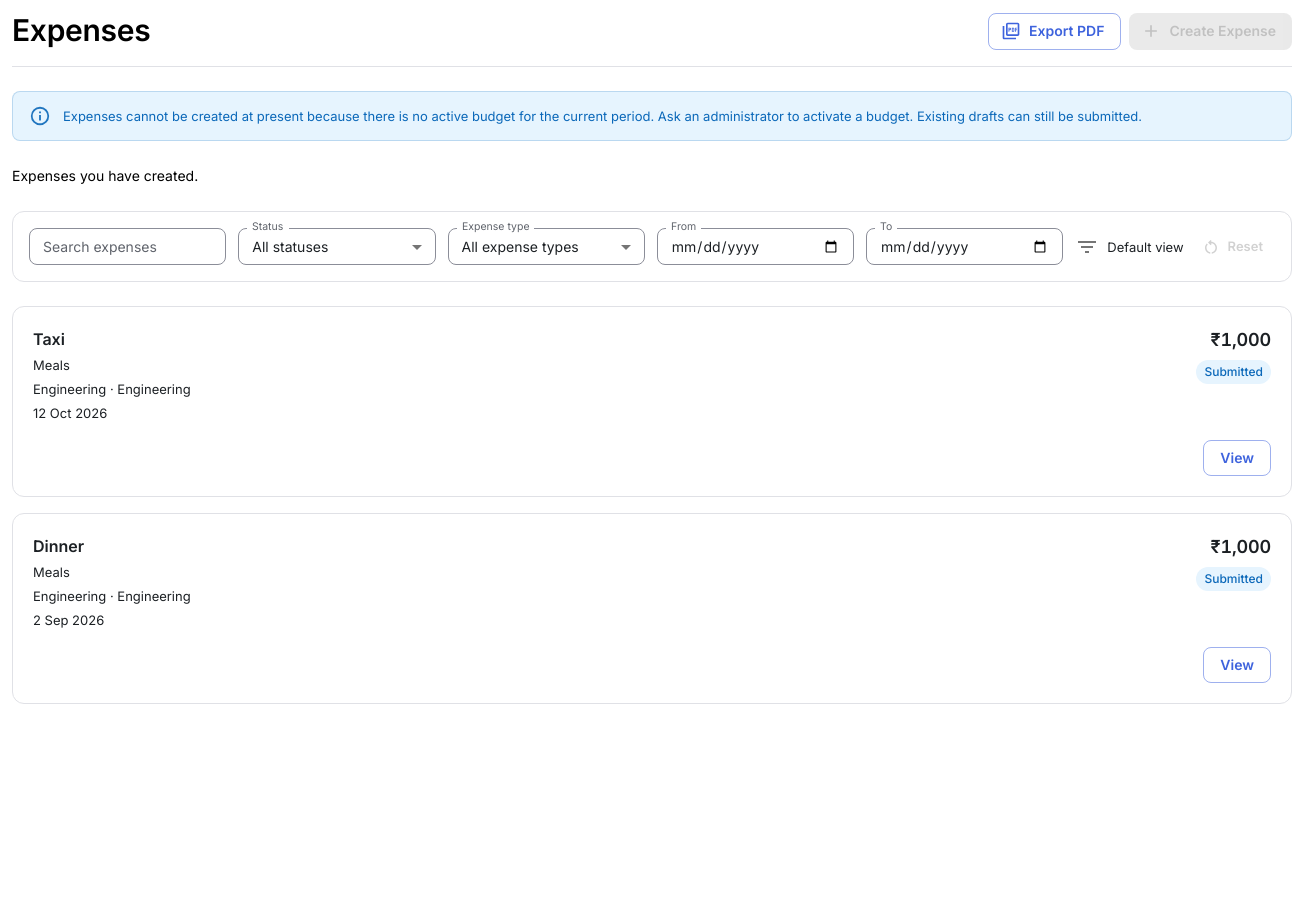
Test case: ExpensesPage date filter › keeps the list and filters on screen while an inverted range is corrected
Check: the heading "Taxi" is shown, box [33,329,65,349]
Type "2026-10-10" into the date field labelled "From" at (755, 247), box [657,228,854,265]
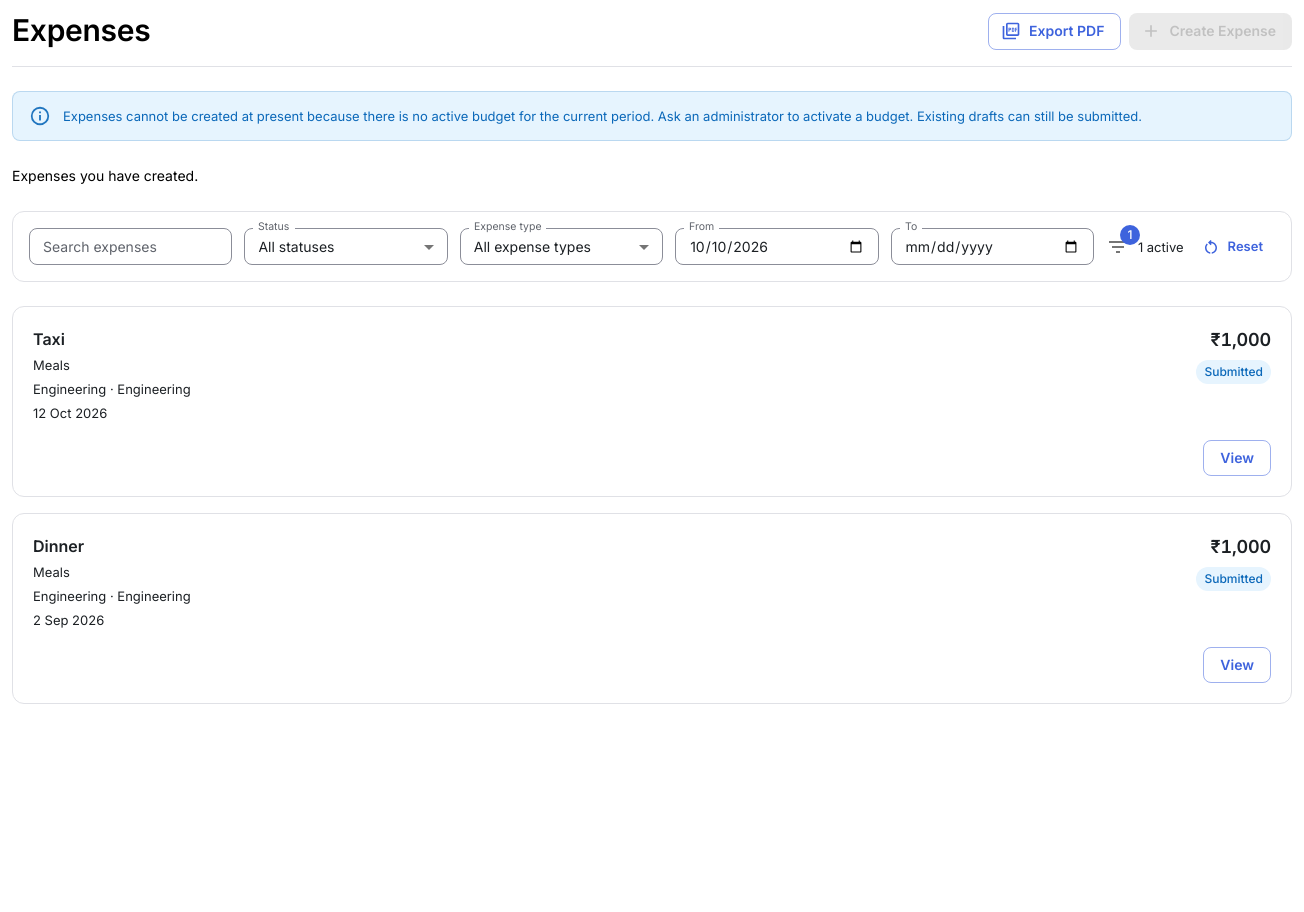
Type "2026-10-01" into the date field labelled "To" at (992, 247), box [890,228,1094,265]
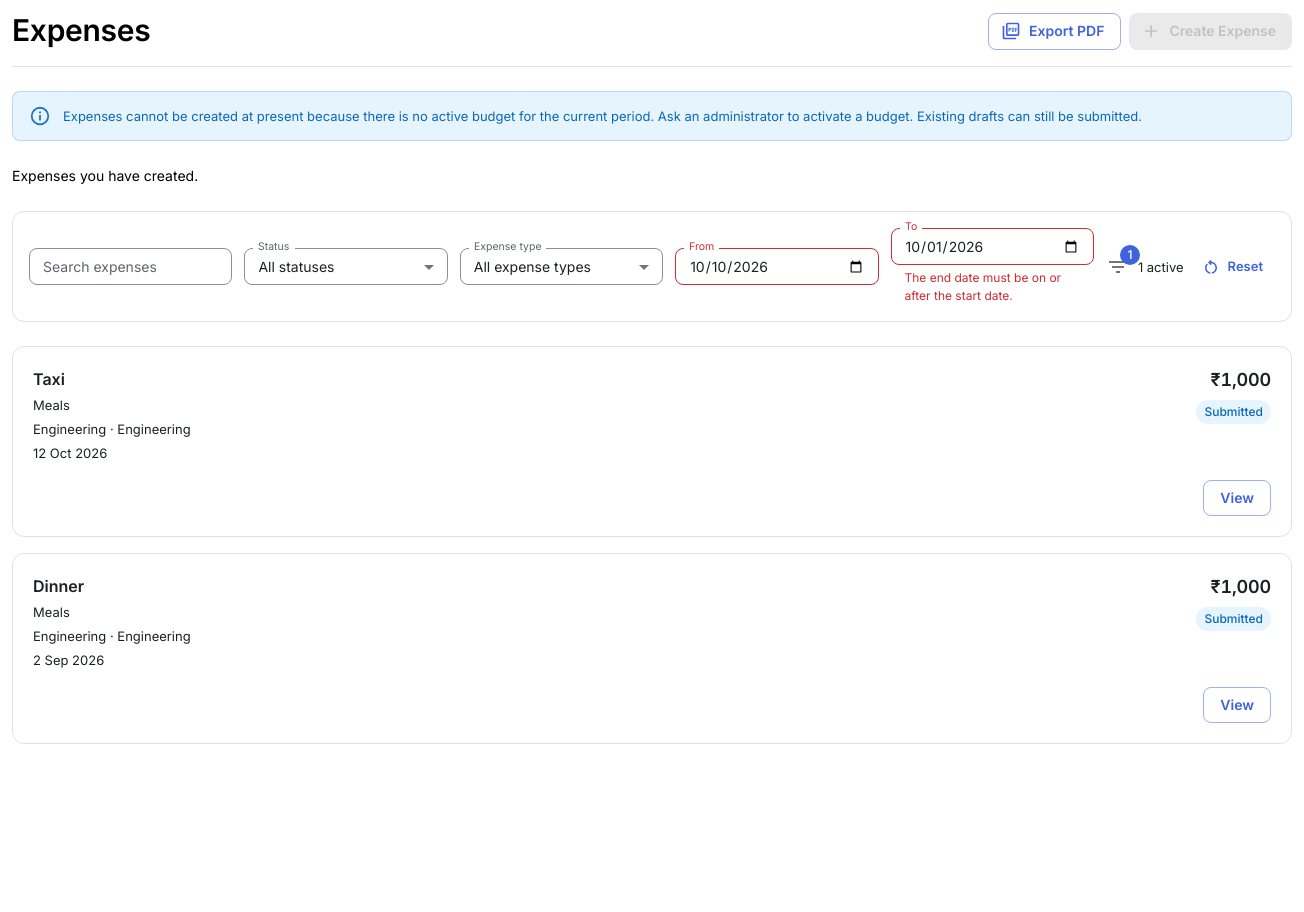
Check: the heading "Taxi" is shown, box [33,369,65,389]
Check: the text "The end date must be on or after the start date." is shown, box [904,269,1080,305]
Type "2026-10-31" into the date field labelled "To" at (992, 247), box [890,228,1094,265]
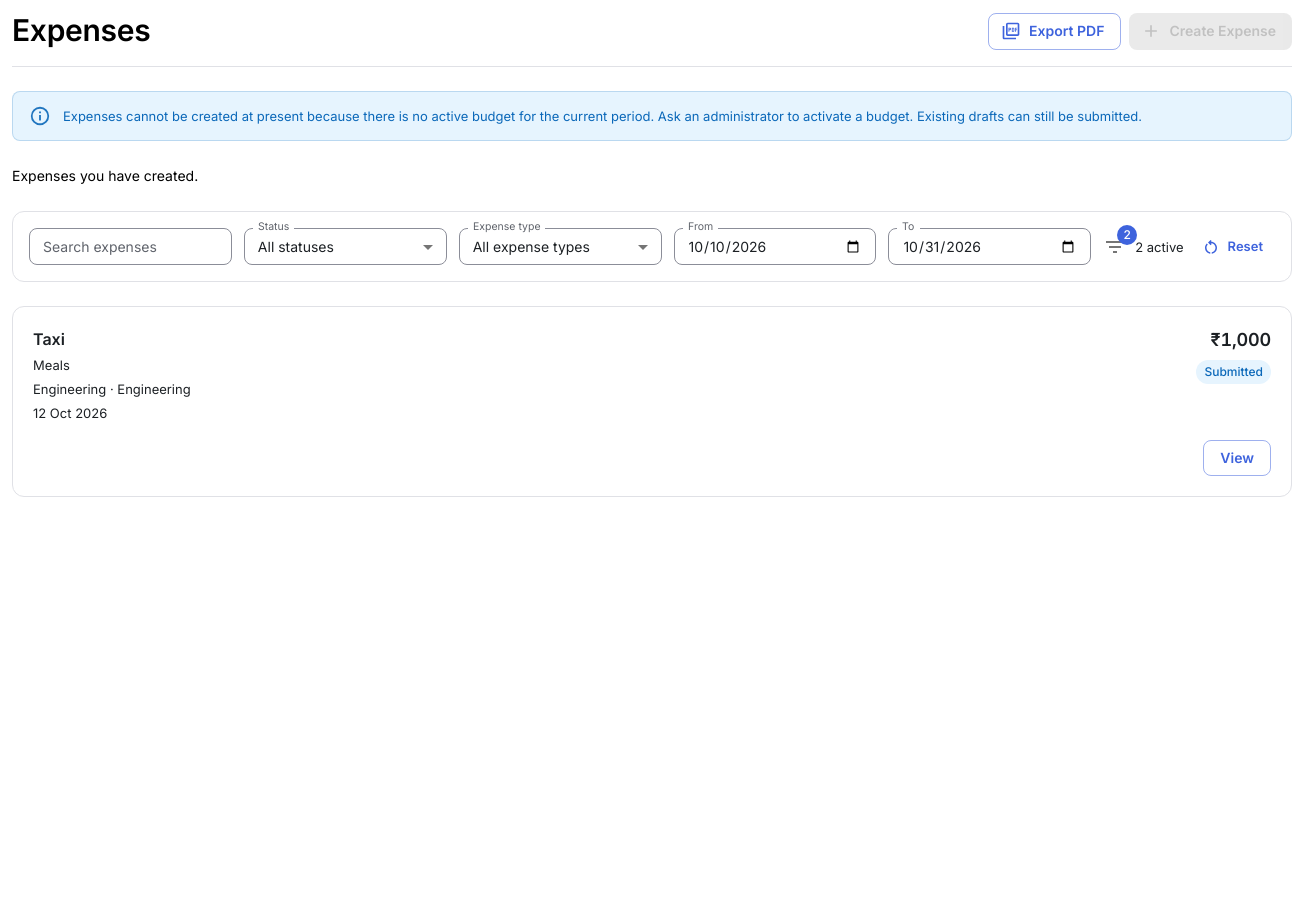
Check: the heading "Taxi" is shown, box [33,329,65,349]
Check: the heading "Dinner" is gone
